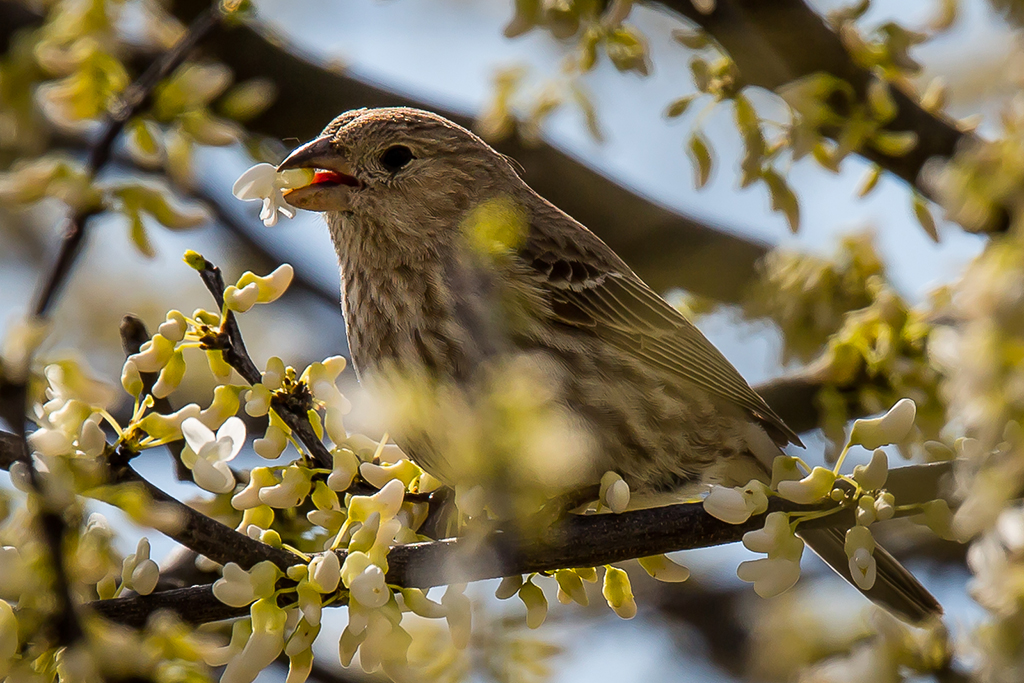bird: (228, 82, 962, 640)
